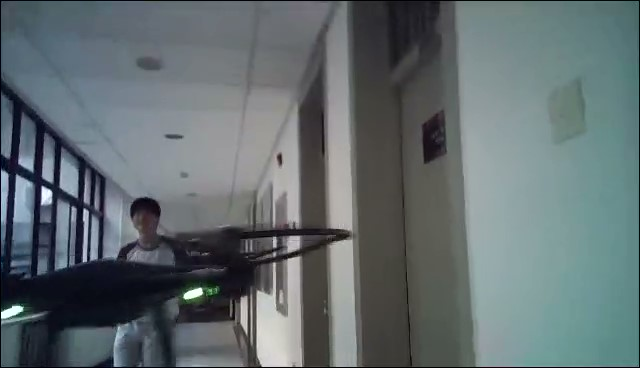drone: (1, 221, 356, 330)
person: (113, 195, 193, 368)
